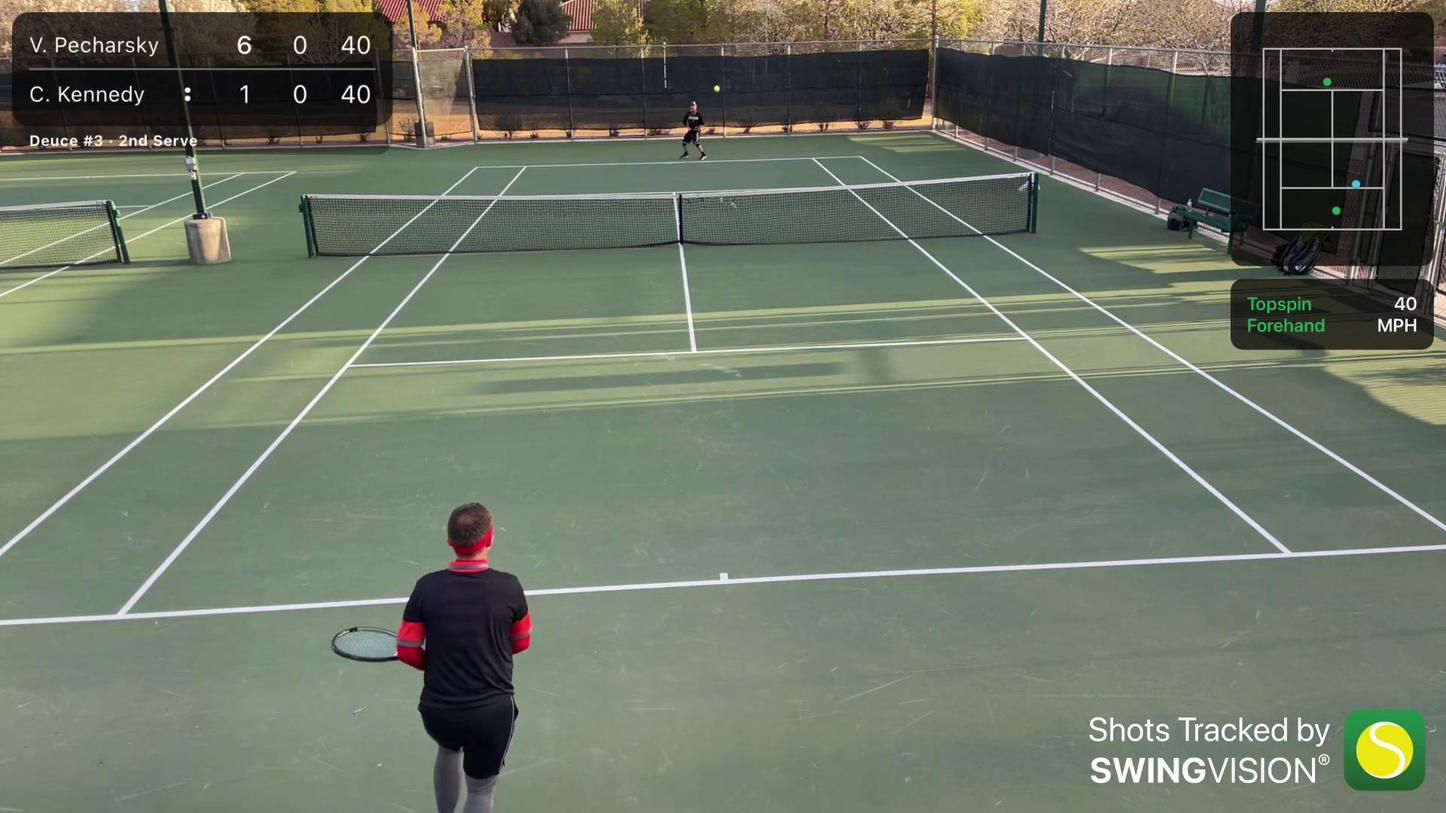ball: (713, 85, 720, 92)
